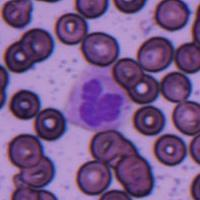N: (65, 66, 131, 132)
